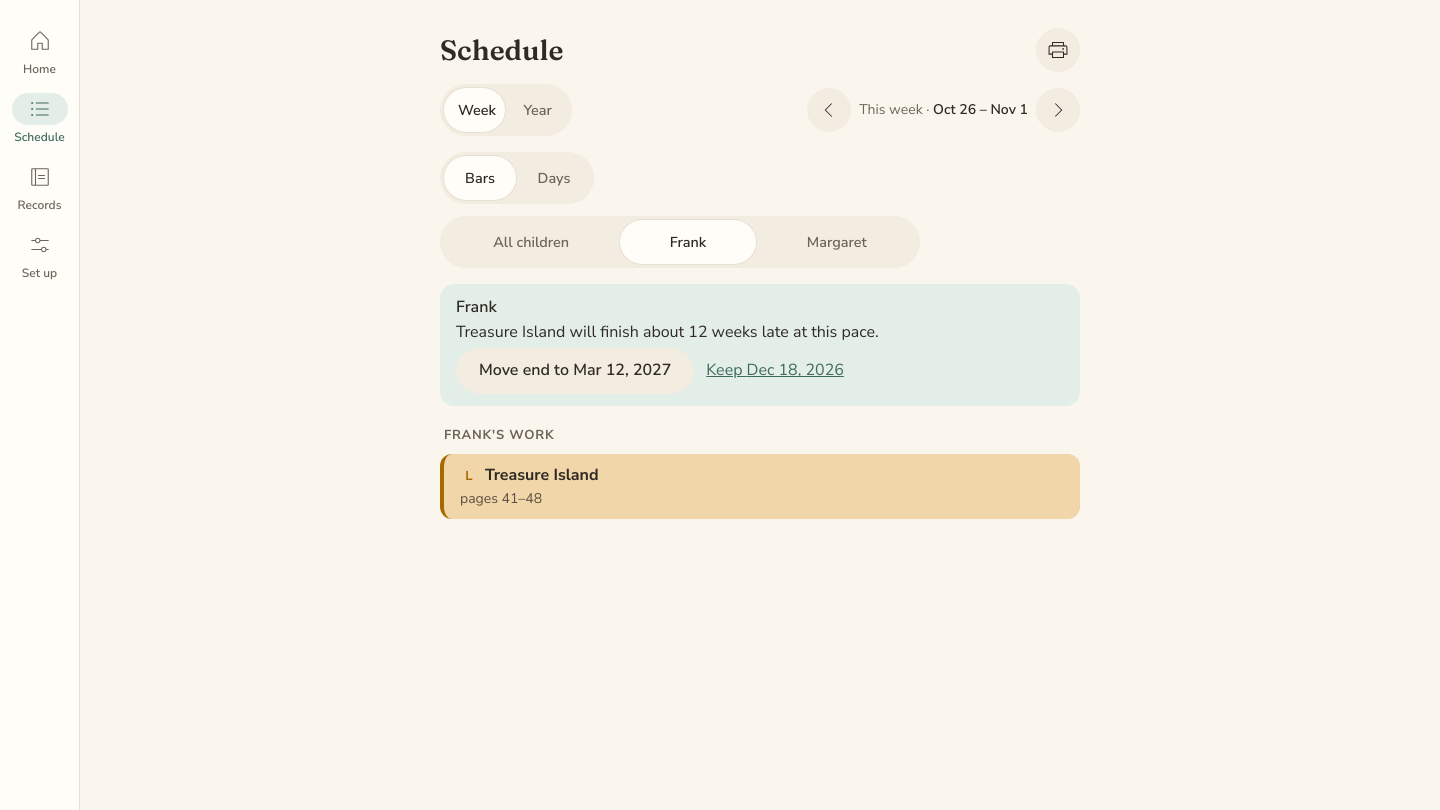
it: A late line offers one next step (S7b-05) › a refused move says so and keeps the line
Check: the 5th list item is shown, box [456, 321, 879, 343]
What coordinates should you click on to do the following:
click the button "Move end to Mar 12, 2027"
I would click on:
 (575, 371)
Its box is [456, 348, 694, 394].
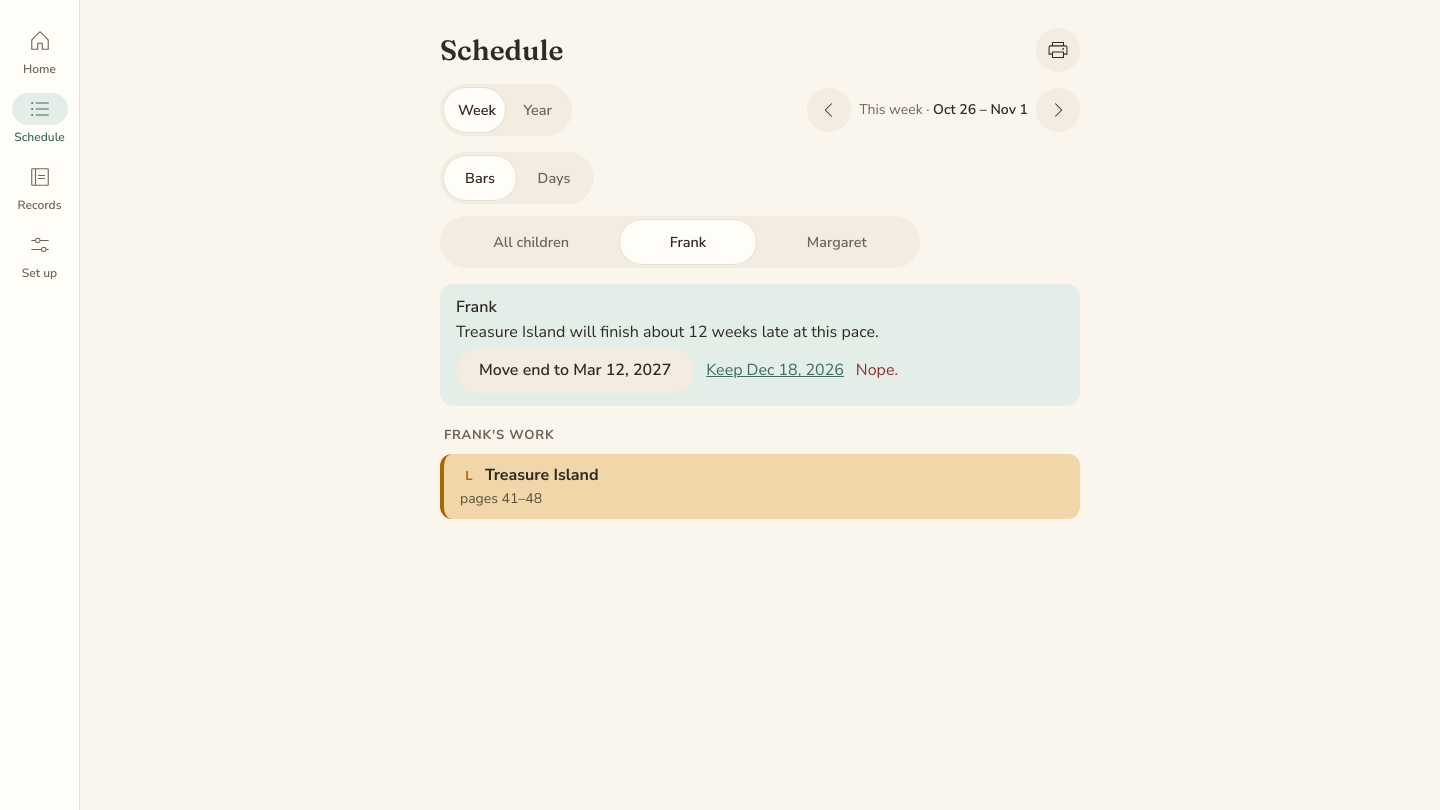
Check: the 5th list item is shown, box [456, 321, 879, 343]
Check: the message reads "Nope.", box [856, 359, 898, 381]
